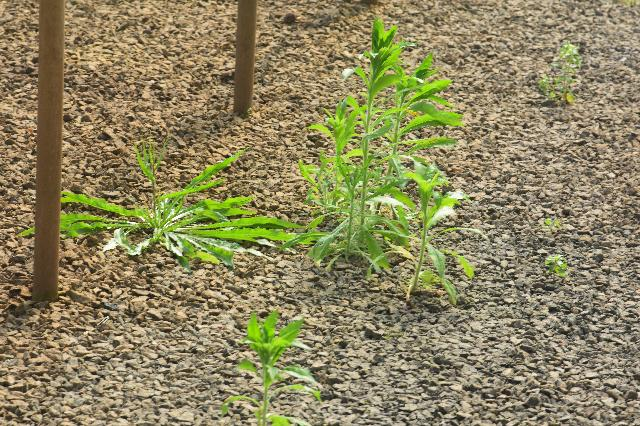MalezaMontesDelPlata: (59, 137, 300, 279), (344, 17, 463, 237), (213, 304, 329, 426), (393, 162, 477, 303), (313, 91, 367, 276), (532, 38, 587, 111), (542, 249, 569, 277)
